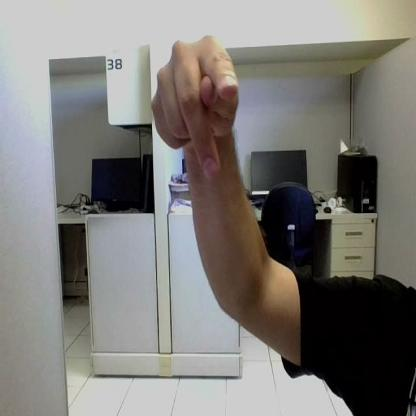P: (152, 34, 238, 176)
